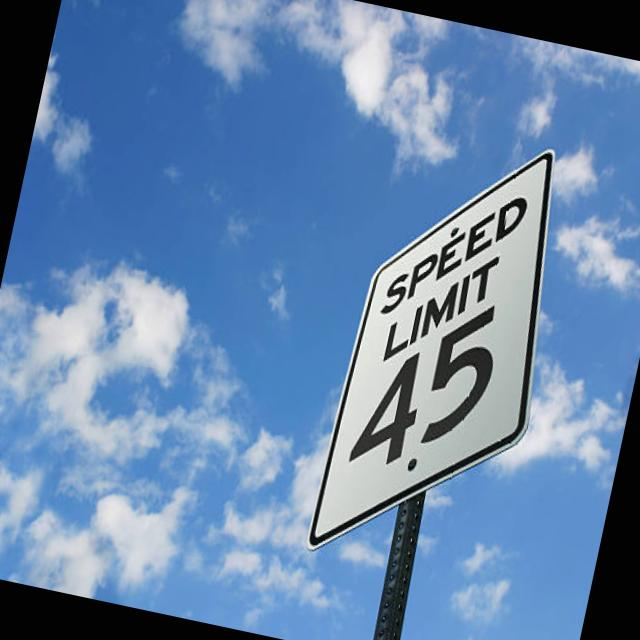Speed Limit Signs: (300, 111, 588, 590)
